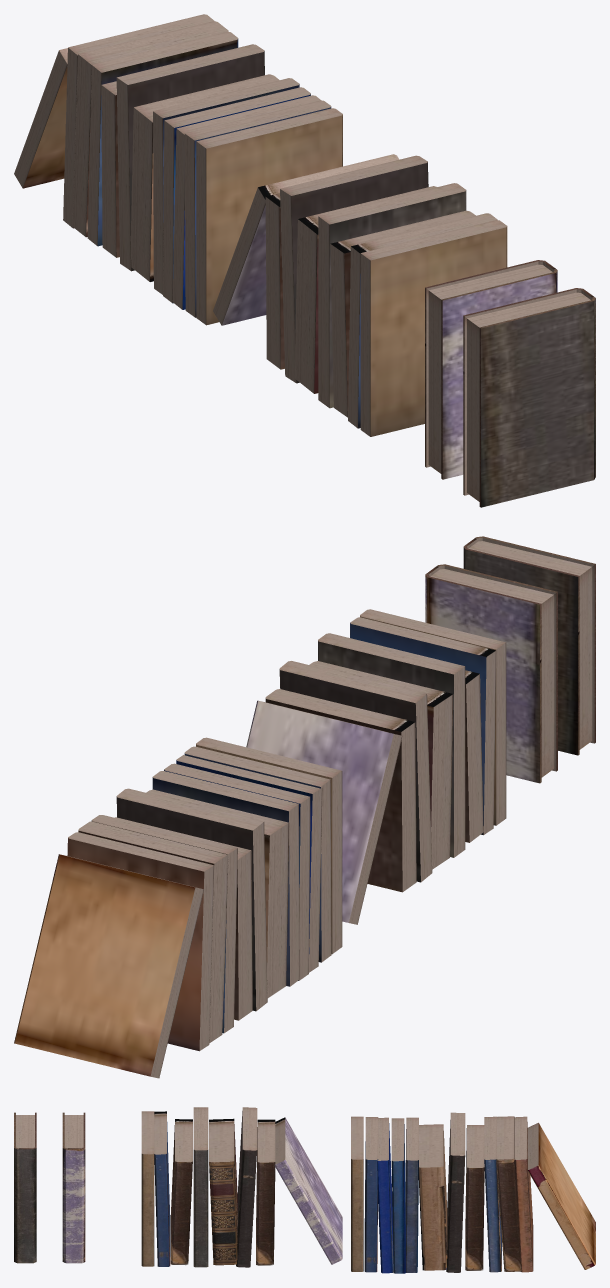
Rendered from knigi.fbx.
The picture shows the model from 3 angles, top to bottom: view 1: azimuth 30°, elevation 25°; view 2: azimuth 150°, elevation 25°; view 3: azimuth 270°, elevation 25°; orthographic projection. The views are drawn at different scales.
Parts seen in each view (by area): view 1: books_001, books, book2, book; view 2: books_001, books, book, book2; view 3: books_001, books, book, book2.
Part boxes in pixels (x1,y1,x2,y2): books_001: (14, 14, 342, 325); books: (213, 154, 507, 436); book2: (463, 288, 595, 507); book: (425, 260, 557, 479); books_001: (14, 737, 342, 1078); books: (246, 609, 506, 924); book: (425, 564, 557, 783); book2: (463, 536, 595, 755); books_001: (351, 1112, 595, 1273); books: (141, 1107, 342, 1267); book: (62, 1112, 85, 1263); book2: (14, 1112, 36, 1263).
Size of the model in its own units: 89.64 by 121 by 514.
